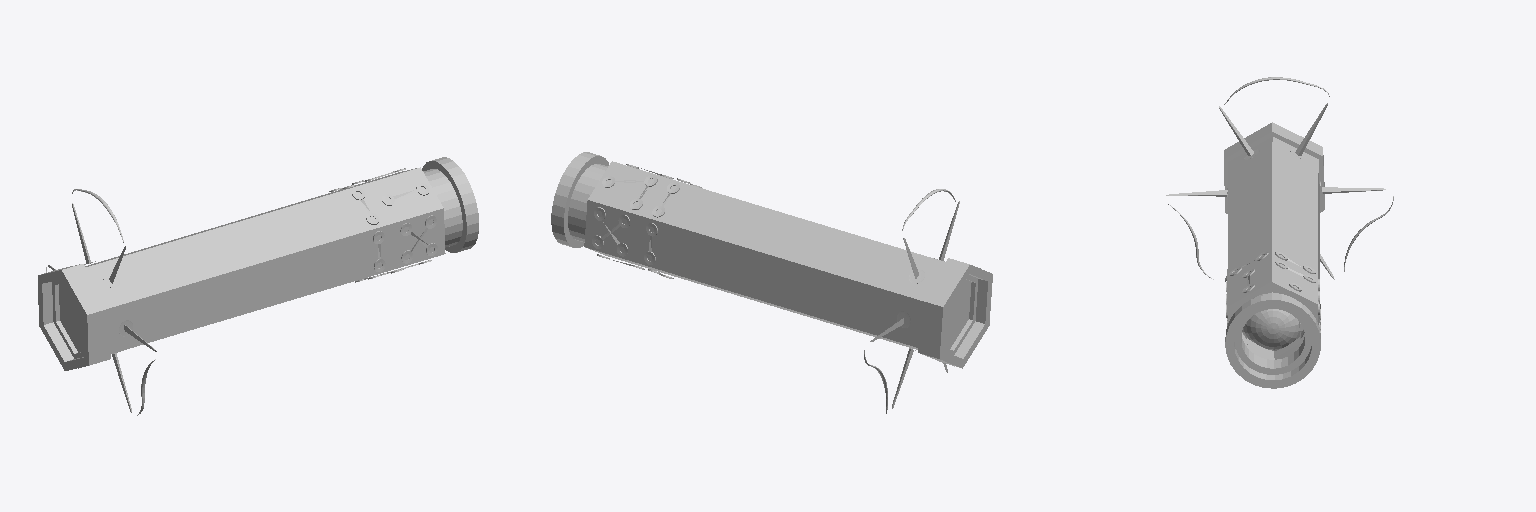
The model's file is Utsuho Cannon Clip2.obj.
The picture shows the model from 3 angles: view 1: azimuth 30°, elevation 25°; view 2: azimuth 150°, elevation 25°; view 3: azimuth 270°, elevation 25°; orthographic projection.
Visible parts, largest first — view 1: utsuhocwing.utsuhocwing.smd.mesh_2.003, utsuhocwing.utsuhocwing.smd.mesh_4.003, utsuhocwing.utsuhocwing.smd.mesh_3.003, utsuhocwing.utsuhocwing.smd.mesh_6.003; view 2: utsuhocwing.utsuhocwing.smd.mesh_2.003, utsuhocwing.utsuhocwing.smd.mesh_4.003, utsuhocwing.utsuhocwing.smd.mesh_3.003, utsuhocwing.utsuhocwing.smd.mesh_6.003; view 3: utsuhocwing.utsuhocwing.smd.mesh_2.003, utsuhocwing.utsuhocwing.smd.mesh_4.003, utsuhocwing.utsuhocwing.smd.mesh_5.003, utsuhocwing.utsuhocwing.smd.mesh_3.003, utsuhocwing.utsuhocwing.smd.mesh_6.003.
Boxes of the visible parts, <box> form: utsuhocwing.utsuhocwing.smd.mesh_2.003: <box>52,167,445,358</box>; utsuhocwing.utsuhocwing.smd.mesh_4.003: <box>48,157,478,412</box>; utsuhocwing.utsuhocwing.smd.mesh_3.003: <box>38,264,110,370</box>; utsuhocwing.utsuhocwing.smd.mesh_6.003: <box>84,168,437,353</box>; utsuhocwing.utsuhocwing.smd.mesh_2.003: <box>584,161,977,354</box>; utsuhocwing.utsuhocwing.smd.mesh_4.003: <box>551,152,980,408</box>; utsuhocwing.utsuhocwing.smd.mesh_3.003: <box>918,258,992,368</box>; utsuhocwing.utsuhocwing.smd.mesh_6.003: <box>592,164,944,350</box>; utsuhocwing.utsuhocwing.smd.mesh_2.003: <box>1227,136,1319,324</box>; utsuhocwing.utsuhocwing.smd.mesh_4.003: <box>1166,103,1385,388</box>; utsuhocwing.utsuhocwing.smd.mesh_5.003: <box>1168,77,1393,350</box>; utsuhocwing.utsuhocwing.smd.mesh_3.003: <box>1224,122,1324,213</box>; utsuhocwing.utsuhocwing.smd.mesh_6.003: <box>1226,149,1320,332</box>.
Size of the model in its own units: 28.5 by 13.81 by 14.16.